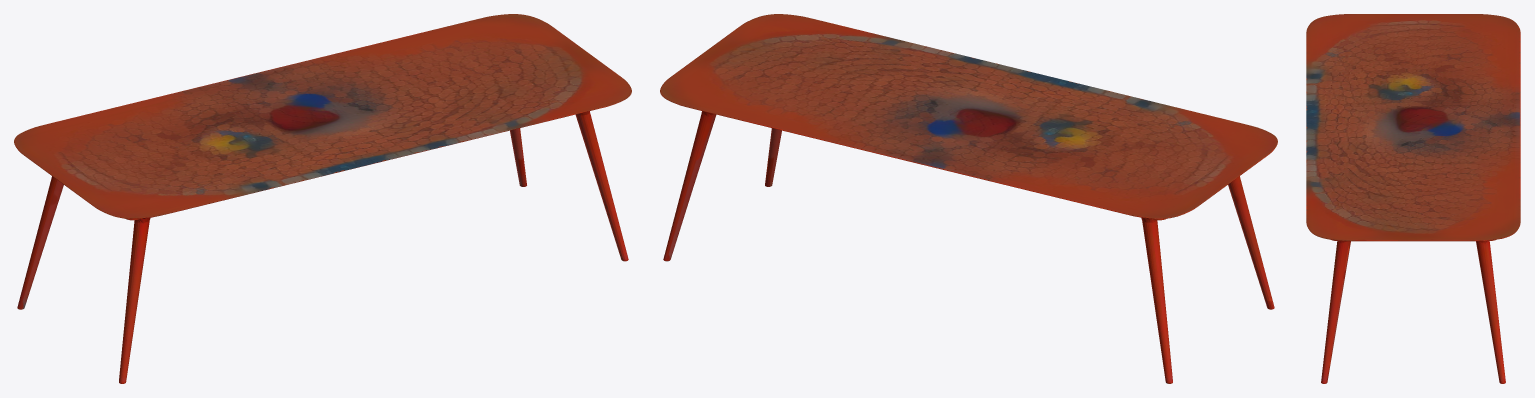
The model's file is edited_mesh.glb.
The picture shows the model from 3 angles, left to right: view 1: azimuth 30°, elevation 25°; view 2: azimuth 150°, elevation 25°; view 3: azimuth 270°, elevation 25°; orthographic projection. The views are drawn at different scales.
Visible parts, largest first — view 1: normalized_model.obj; view 2: normalized_model.obj; view 3: normalized_model.obj.
Part boxes in pixels (left/top/right/bottom): normalized_model.obj: left=14, top=14, right=631, bottom=383; normalized_model.obj: left=660, top=14, right=1277, bottom=383; normalized_model.obj: left=1306, top=14, right=1520, bottom=383.
Size of the model in its own units: 2 by 0.6096 by 0.8.
Materials: 1 (1 with a texture image).
